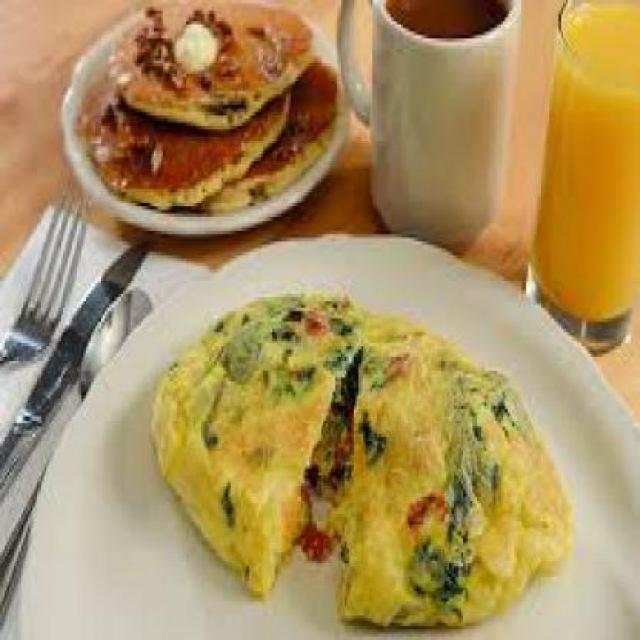omelette: (141, 266, 577, 636)
